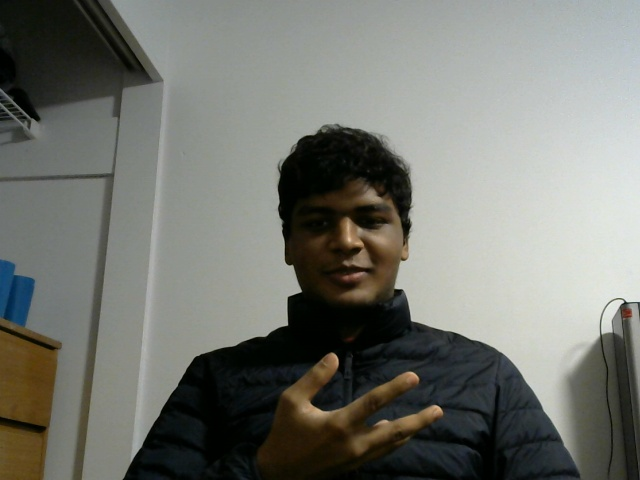Speech: (263, 350, 450, 464)
